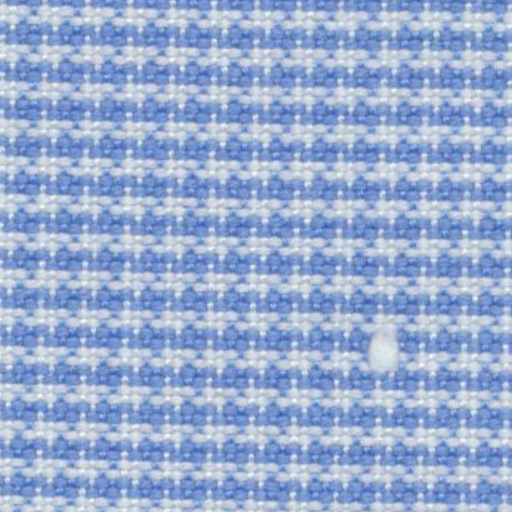MianQiu: (356, 318, 420, 382)
